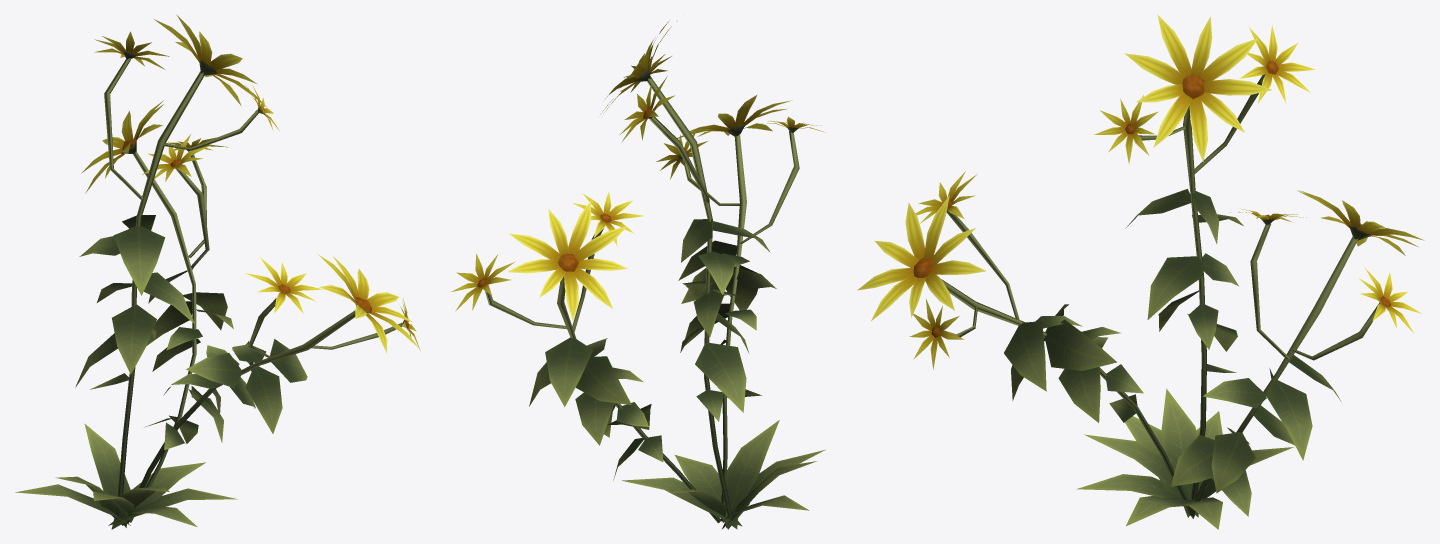
Rendered from assets_maa-artisokka_kukat2.fbx.
The picture shows the model from 3 angles, left to right: view 1: azimuth 30°, elevation 25°; view 2: azimuth 150°, elevation 25°; view 3: azimuth 270°, elevation 25°; orthographic projection. The views are drawn at different scales.
Visible parts, largest first — view 1: assets_maa_artisokka_kukat2; view 2: assets_maa_artisokka_kukat2; view 3: assets_maa_artisokka_kukat2.
Boxes of the visible parts, x1,y1,x2,y2 form: assets_maa_artisokka_kukat2: [15, 14, 420, 529]; assets_maa_artisokka_kukat2: [450, 20, 825, 529]; assets_maa_artisokka_kukat2: [857, 14, 1424, 529].
Bounding box in the file's own units: 4.84 × 7.98 × 7.69.
